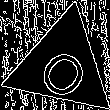O_NE: (29, 32, 94, 99)
